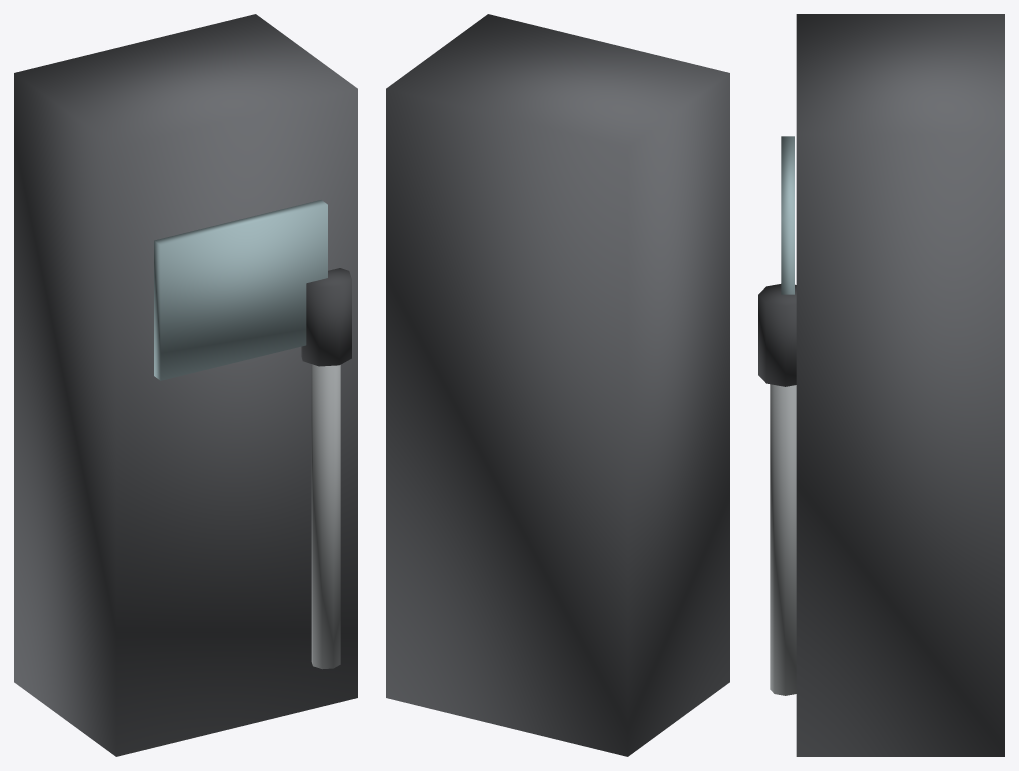
The model's file is karaoke_terminal__tall.glb.
3 renders of one model, left to right at view 1: azimuth 30°, elevation 25°; view 2: azimuth 150°, elevation 25°; view 3: azimuth 270°, elevation 25°, orthographic. The views are drawn at different scales.
Parts seen in each view (by area): view 1: world; view 2: world; view 3: world.
Boxes of the visible parts, bbox=[...] form: world: bbox=[14, 14, 357, 756]; world: bbox=[386, 14, 729, 756]; world: bbox=[758, 14, 1004, 756].
Bounding box in the file's own units: 0.52 × 1.25 × 0.45.
